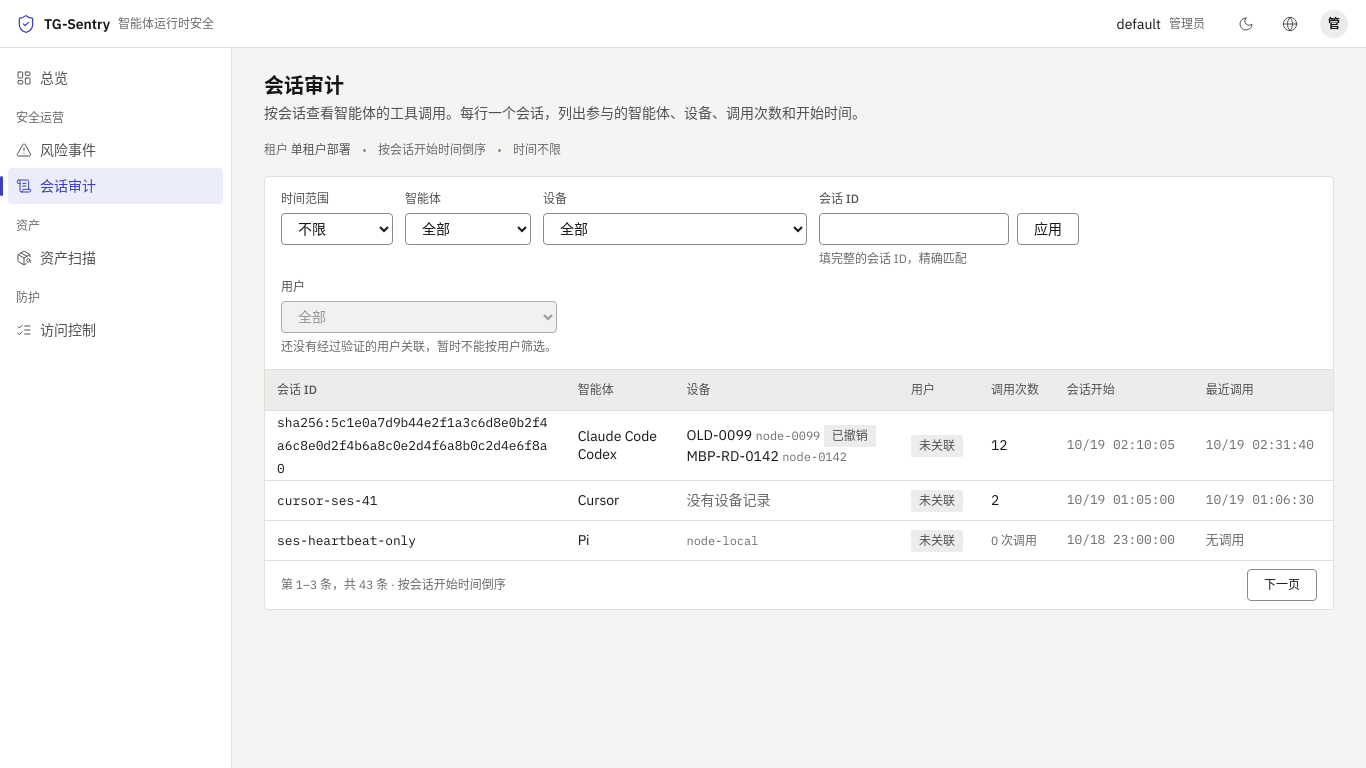
it: sessions list (#16 S4) › pages with page/size and offers a way back from a page past the end
Click the link "下一页" at [1282, 584], box [1247,568,1317,600]
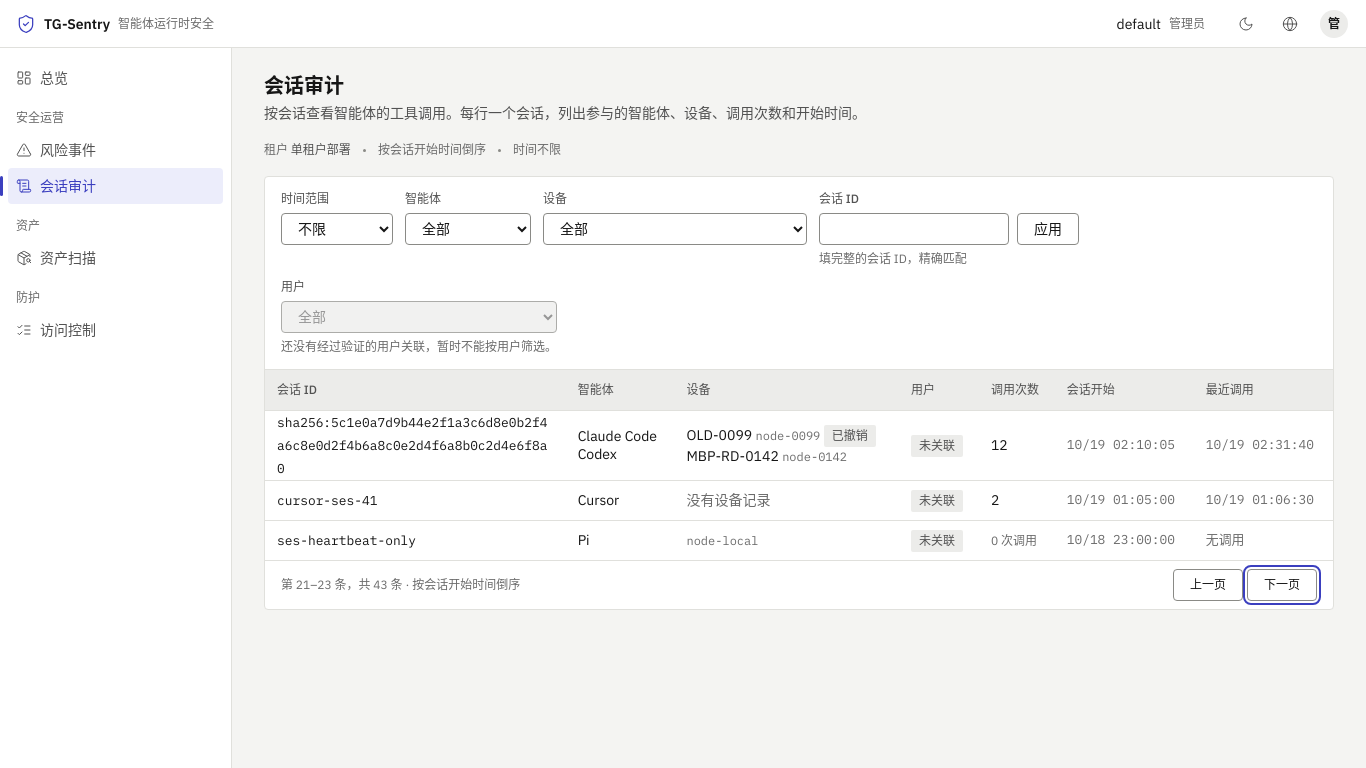
Check: the link "上一页" is shown
Click the link "上一页" at [1208, 584], box [1173,568,1243,600]
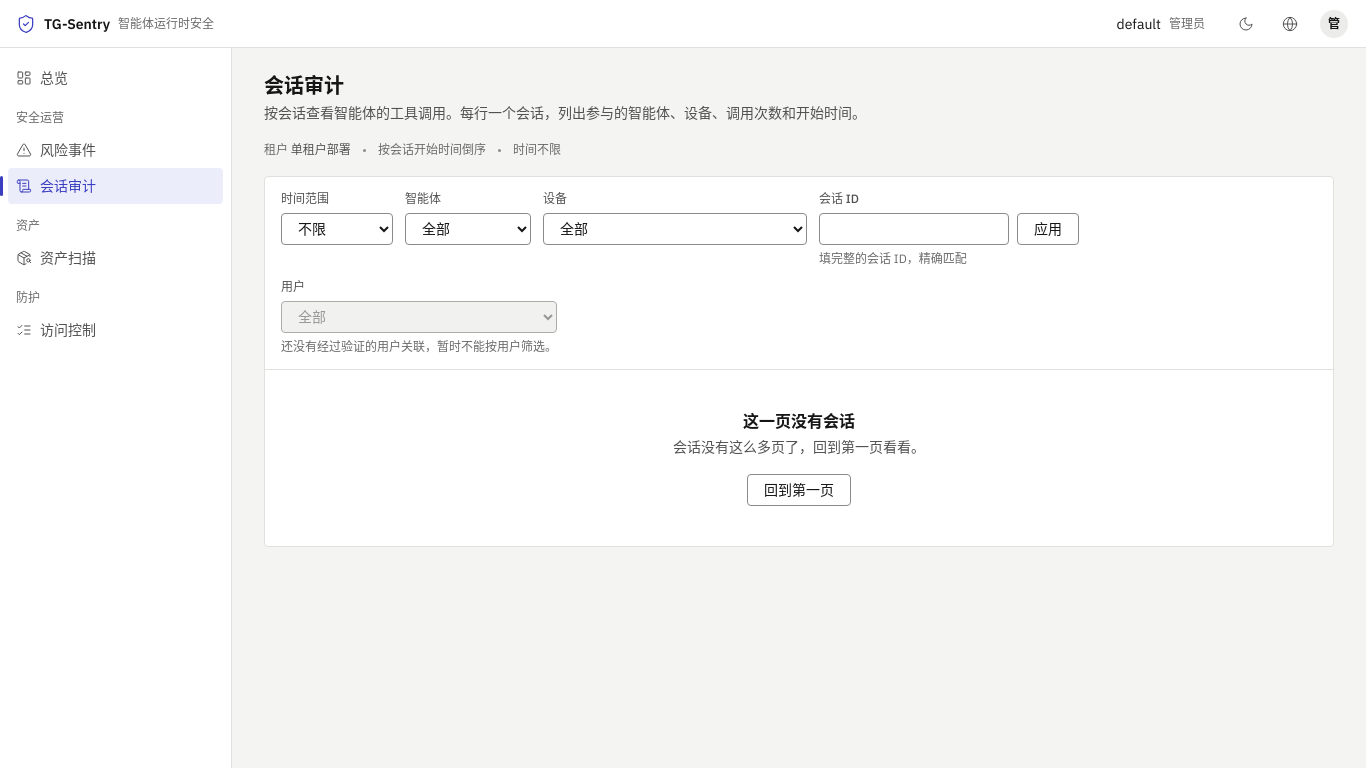
Check: the heading "这一页没有会话" is shown, box [743,411,855,431]
